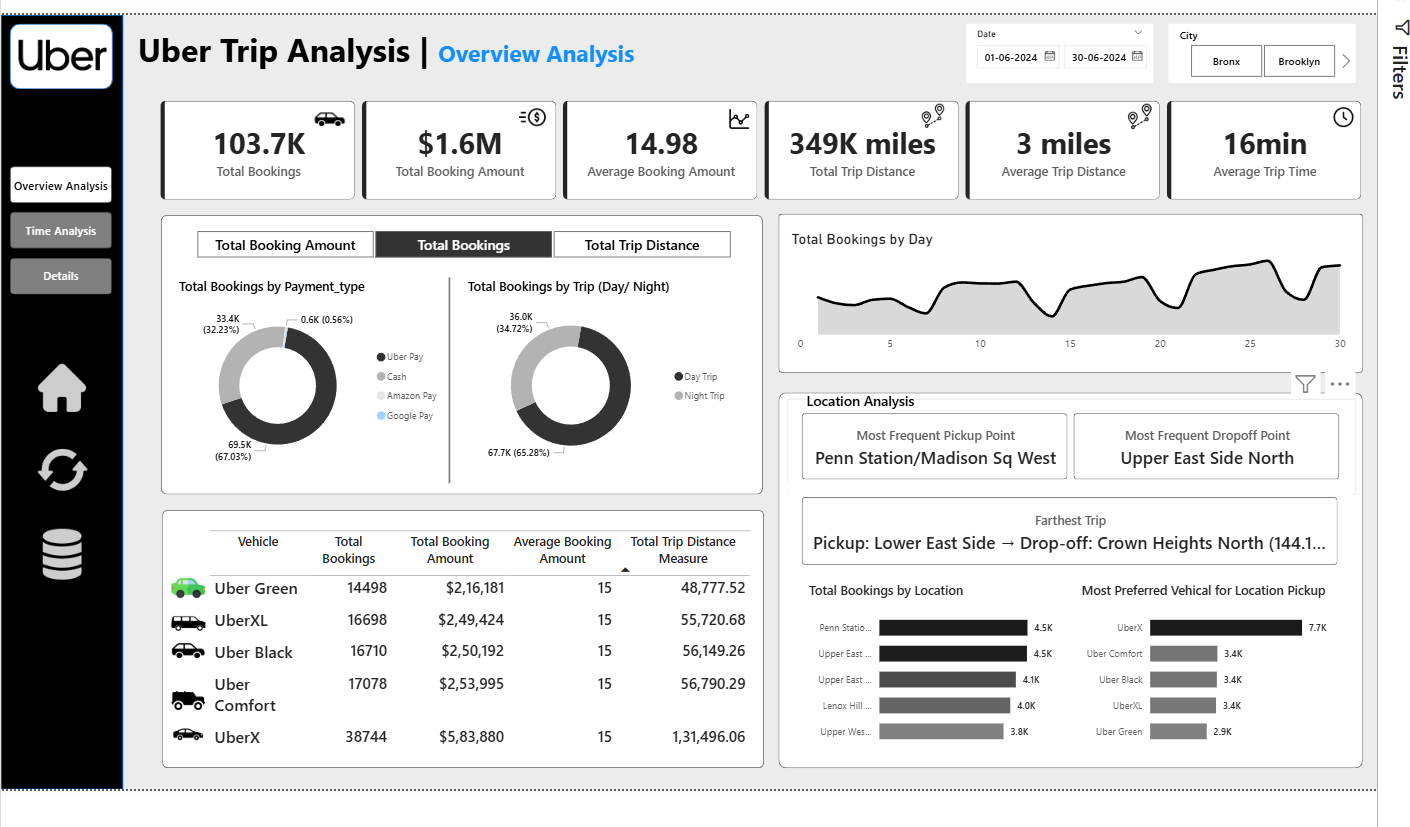

The dashboard page shown, as its layout file describes it:
{"tool":"powerbi","page":{"name":"Overview Analysis","canvas":[1600,900],"ordinal":0},"visuals":[{"type":"shape","box":[0,0,142,900.5],"z":0},{"type":"textbox","box":[153.9,10.9,881.7,71.5],"z":1000},{"type":"cardVisual","fields":{"Data":["Trip Details.Total Bookings","Trip Details.Total Booking Amount","Trip Details.Average Booking Amount","Trip Details.Total Trip Distance","Trip Details.Average Trip Distance","Trip Details.Average Trip Time"]},"box":[167.9,82.4,1432.1,149.3],"z":2000},{"type":"image","box":[595.5,102.6,43.5,31.1],"z":3000},{"type":"image","box":[1060.5,102.6,46.6,28],"z":4000},{"type":"image","box":[1309.3,102.6,31.1,29.5],"z":5000},{"type":"image","box":[1548.7,102.6,23.3,31.1],"z":6000},{"type":"image","box":[844.3,107.3,28,26.4],"z":7000},{"type":"shape","box":[186.6,233.2,699.7,325],"z":8000},{"type":"image","box":[362.3,102.6,40.4,35.8],"z":9000},{"type":"slicer","fields":{"Values":["Dynamic Measure.Dynamic Measure"]},"box":[202.1,244.1,670.2,43.5],"z":10000},{"type":"donutChart","fields":{"Y":["Trip Details.Total Bookings"],"Category":["Trip Details.Payment_type"]},"box":[202.1,304.8,318.8,231.7],"z":11000},{"type":"donutChart","fields":{"Y":["Trip Details.Total Bookings"],"Category":["Trip Details.Trip Type (Day/ Night)"]},"box":[538,304.8,318,231.7],"z":12000},{"type":"shape","box":[188.1,575.3,699.7,300],"z":13000},{"type":"pivotTable","fields":{"Rows":["Trip Details.Vehicle"],"Values":["Trip Details.Total Bookings","Trip Details.Total Booking Amount","Trip Details.Average Booking Amount","Trip Details.Total Trip Distance Measure"]},"box":[237.9,594,646.9,265.9],"z":14000},{"type":"image","box":[177.3,646.9,80.9,38.9],"z":15000},{"type":"image","box":[177.3,719.9,80.9,38.9],"z":16000},{"type":"image","box":[177.3,777.5,80.9,38.9],"z":17000},{"type":"image","box":[177,686,80.9,43.5],"z":18000},{"type":"image","box":[177.3,816.3,80.9,38.9],"z":19000},{"type":"shape","box":[903.4,231.7,679.5,185],"z":20000},{"type":"areaChart","fields":{"Category":["Calender Table.Date.Variation.Date Hierarchy.Day"],"Y":["Trip Details.Total Bookings"]},"box":[914.3,250.3,657.7,150.8],"z":21000},{"type":"shape","box":[903.4,438.5,679.5,436.9],"z":22000},{"type":"cardVisual","fields":{"Data":["Trip Details.Most Frequent Pickup Point","Trip Details.Most Frequent Dropoff Point"]},"box":[914.3,446.3,660.9,112],"z":23000},{"type":"cardVisual","fields":{"Data":["Trip Details.Farthest Trip"]},"box":[914.3,544.2,657.7,113.5],"z":24000},{"type":"barChart","fields":{"Category":["Location Table.Location"],"Y":["Trip Details.Total Bookings"]},"box":[934.5,657.7,297,202.1],"z":25000},{"type":"barChart","title":"Most Preferred Vehical for Location Pickup","fields":{"Category":["Trip Details.Vehicle"],"Y":["CountNonNull(Trip Details.PULocationID)"]},"box":[1251.7,657.7,297,202.1],"z":26000},{"type":"shape","box":[516.2,304.8,10.9,239.5],"z":27000},{"type":"textbox","box":[931.4,432.3,300.1,38.9],"z":28000},{"type":"slicer","fields":{"Values":["Calender Table.Date"]},"box":[1122.7,10.9,217.7,68.4],"z":29000},{"type":"slicer","fields":{"Values":["Location Table.City"]},"box":[1357.5,10.9,217.7,68.4],"z":30000},{"type":"shape","box":[10.9,10.9,119.7,76.2],"z":31000},{"type":"image","box":[20.2,0,102.6,93.3],"z":32000},{"type":"pageNavigator","box":[10.9,175.7,119.7,149.3],"z":33000},{"type":"image","box":[42,404.9,57.5,56],"z":34000},{"type":"image","box":[34.2,500.7,73.1,57.5],"z":35000},{"type":"image","box":[32.7,597.1,77.7,59.1],"z":36000}]}

Visuals, with their boxes on the page's 1600x900 design canvas (x1, y1, x2, y2). These are canvas units, not pixel positions in the 1410x827 screenshot, which may show the page scaled, cropped or inside an application window:
shape: box=[0, 0, 142, 900]
textbox: box=[154, 11, 1036, 82]
cardVisual - Trip Details.Total Bookings x Trip Details.Total Booking Amount: box=[168, 82, 1600, 232]
image: box=[596, 103, 639, 134]
image: box=[1060, 103, 1107, 131]
image: box=[1309, 103, 1340, 132]
image: box=[1549, 103, 1572, 134]
image: box=[844, 107, 872, 134]
shape: box=[187, 233, 886, 558]
image: box=[362, 103, 403, 138]
slicer - Dynamic Measure.Dynamic Measure: box=[202, 244, 872, 288]
donutChart - Trip Details.Total Bookings x Trip Details.Payment_type: box=[202, 305, 521, 536]
donutChart - Trip Details.Total Bookings x Trip Details.Trip Type (Day/ Night): box=[538, 305, 856, 536]
shape: box=[188, 575, 888, 875]
pivotTable - Trip Details.Vehicle x Trip Details.Total Bookings: box=[238, 594, 885, 860]
image: box=[177, 647, 258, 686]
image: box=[177, 720, 258, 759]
image: box=[177, 778, 258, 816]
image: box=[177, 686, 258, 730]
image: box=[177, 816, 258, 855]
shape: box=[903, 232, 1583, 417]
areaChart - Calender Table.Date.Variation.Date Hierarchy.Day x Trip Details.Total Bookings: box=[914, 250, 1572, 401]
shape: box=[903, 438, 1583, 875]
cardVisual - Trip Details.Most Frequent Pickup Point x Trip Details.Most Frequent Dropoff Point: box=[914, 446, 1575, 558]
cardVisual - Trip Details.Farthest Trip: box=[914, 544, 1572, 658]
barChart - Location Table.Location x Trip Details.Total Bookings: box=[934, 658, 1232, 860]
"Most Preferred Vehical for Location Pickup" barChart: box=[1252, 658, 1549, 860]
shape: box=[516, 305, 527, 544]
textbox: box=[931, 432, 1232, 471]
slicer - Calender Table.Date: box=[1123, 11, 1340, 79]
slicer - Location Table.City: box=[1358, 11, 1575, 79]
shape: box=[11, 11, 131, 87]
image: box=[20, 0, 123, 93]
pageNavigator: box=[11, 176, 131, 325]
image: box=[42, 405, 100, 461]
image: box=[34, 501, 107, 558]
image: box=[33, 597, 110, 656]
